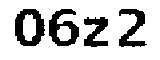0: (10, 7, 46, 53)
2: (118, 7, 149, 50)
6: (47, 7, 81, 56)
z: (78, 16, 111, 50)
